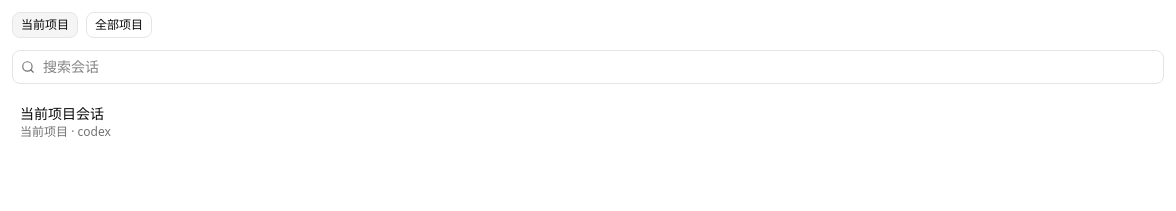
Test: RelayConversationPicker › 按会话标题搜索
This screenshot has width=1176, height=211.
Click the button "全部项目" at [119, 25], box [86,12,152,38]
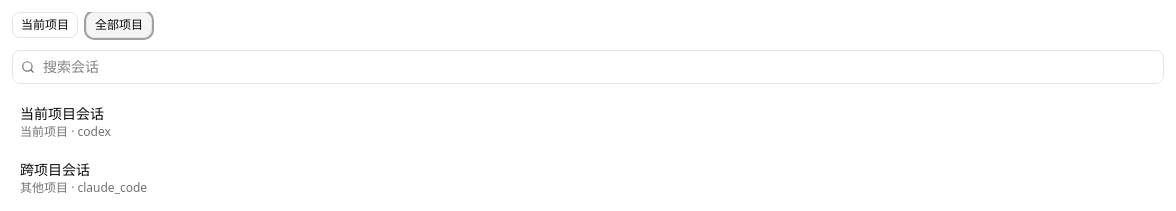
Type "跨项目会话" into the search field at [599, 67], box [43,57,1155,77]
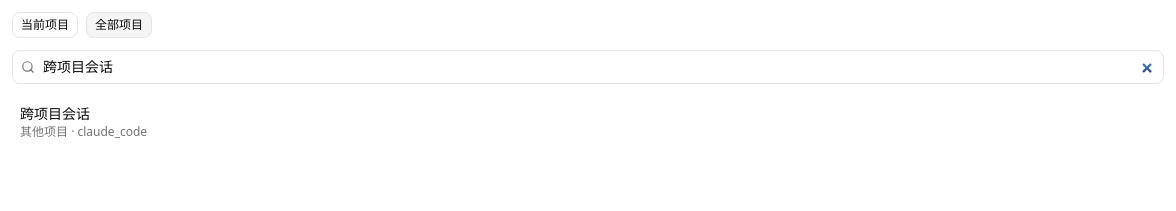
Now the text "跨项目会话" is shown, box [20,104,90,123]
Now the radio button "当前项目会话" is gone
